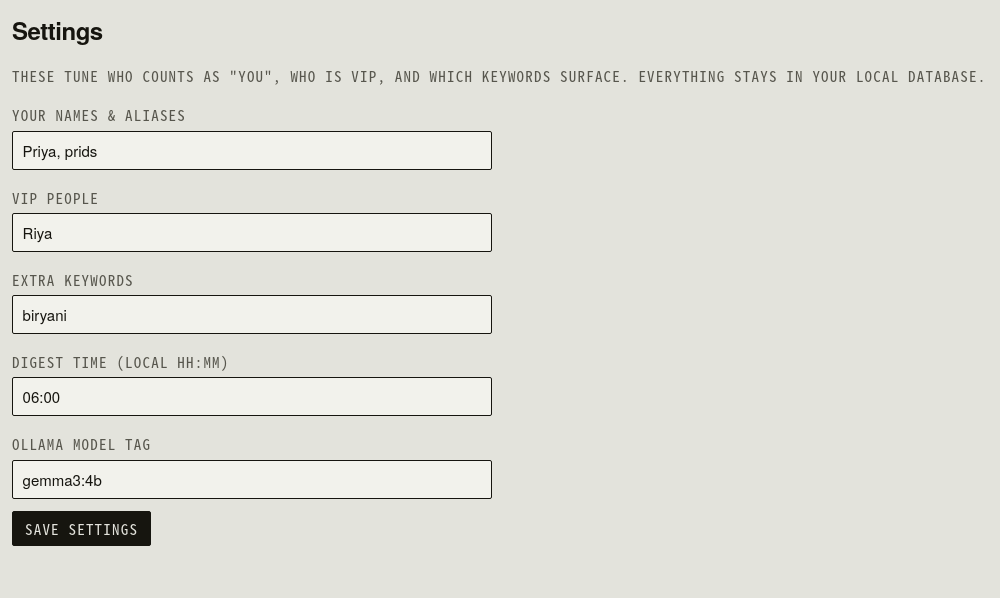
SettingsPage › saves edits and echoes the updated values
The image size is (1000, 598).
Replace the text in the field labelled "VIP people" with "Riya, Kabir" at (252, 232), box left=12, top=213, right=492, bottom=252
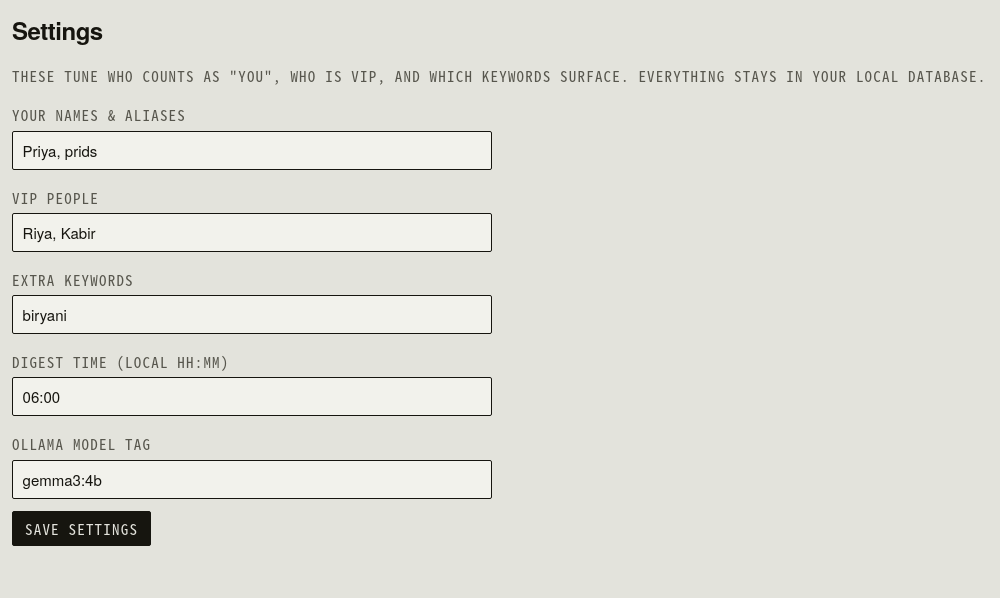
Replace the text in the field labelled "Extra keywords" with "biryani, verify" at (252, 315), box left=12, top=295, right=492, bottom=334
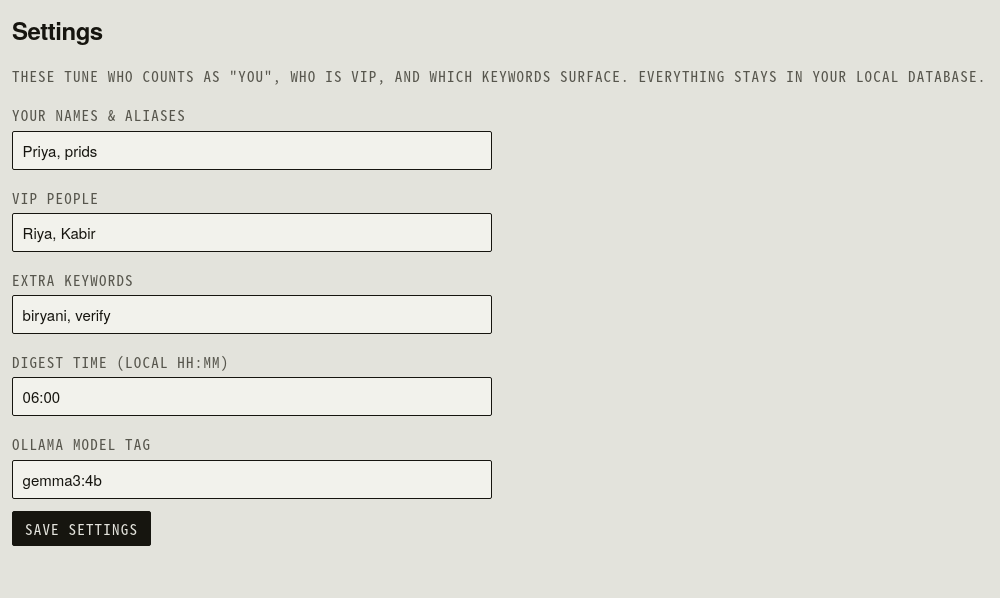
Click the button "Save settings".
click(82, 529)  # box left=12, top=511, right=151, bottom=546
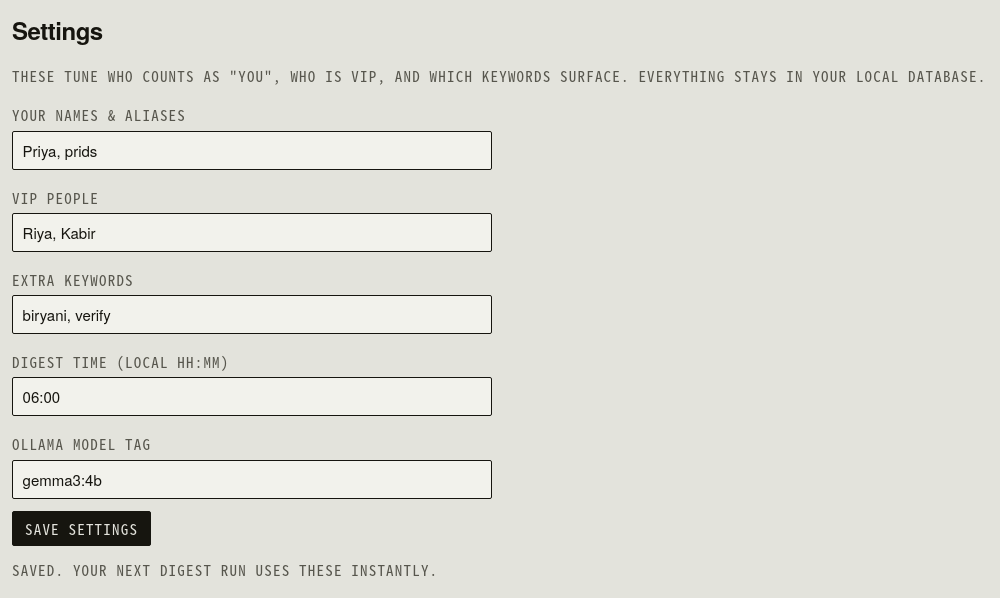
Expected: the text "Saved. Your next digest run uses these instantly." is shown, left=12, top=558, right=492, bottom=582
